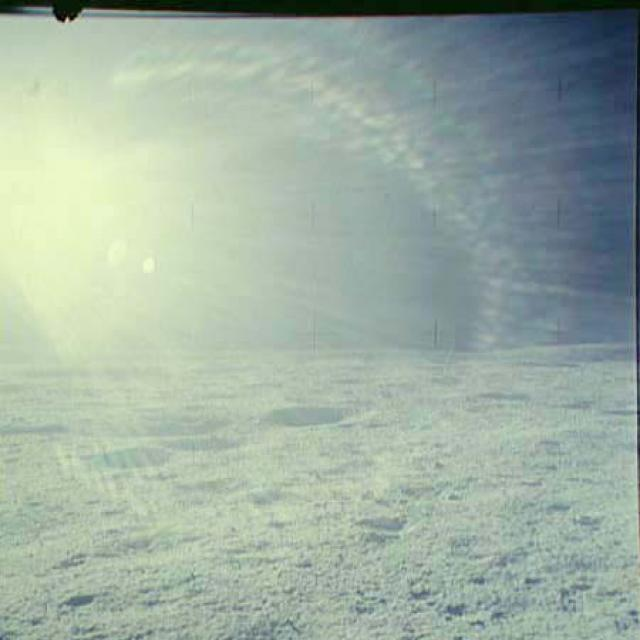crater: (51, 428, 173, 488), (250, 396, 383, 442), (157, 426, 246, 456), (0, 410, 86, 439), (356, 499, 411, 544), (143, 403, 214, 435)
